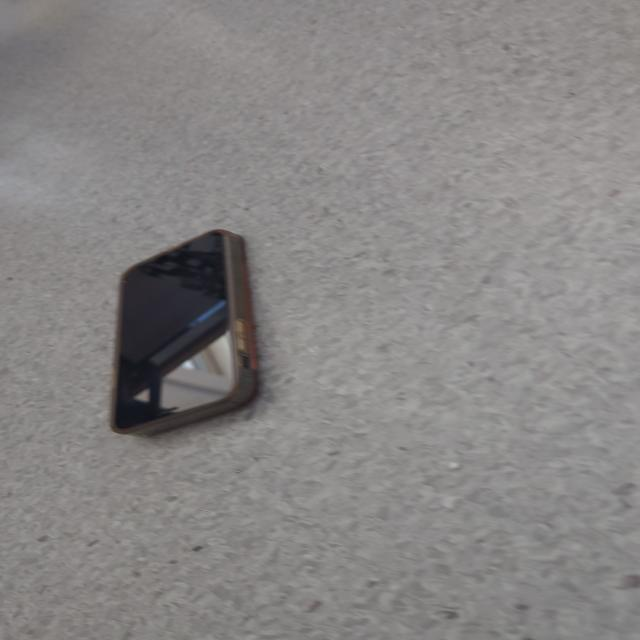phone: (109, 228, 260, 438)
